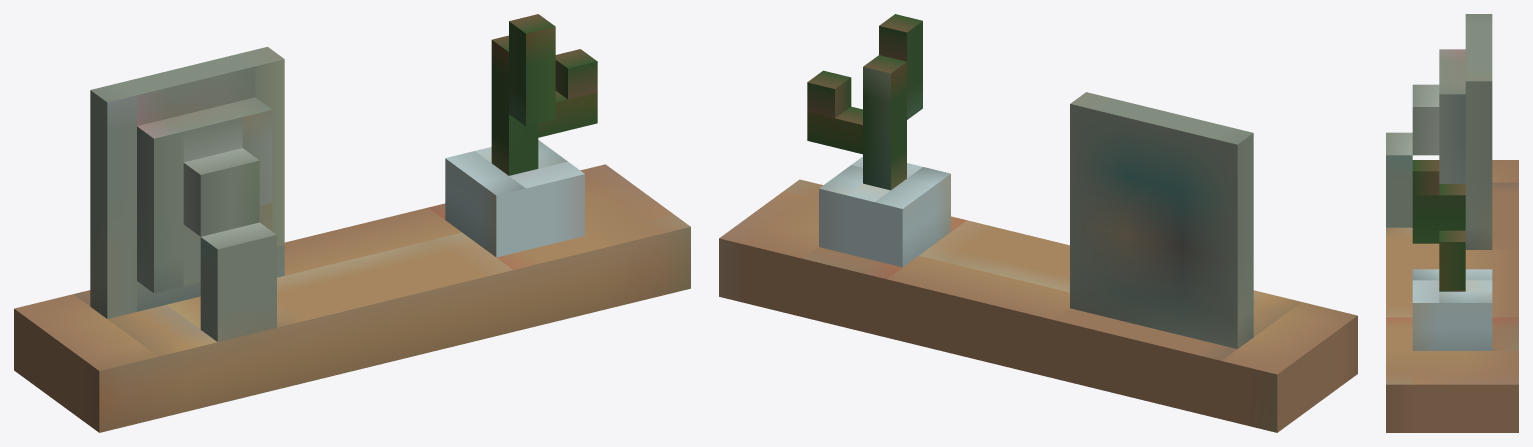
Rendered from ShelfWithItems_B_02.obj.
3 renders of one model, left to right at view 1: azimuth 30°, elevation 25°; view 2: azimuth 150°, elevation 25°; view 3: azimuth 270°, elevation 25°, orthographic. The views are drawn at different scales.
Parts seen in each view (by area): view 1: ShelfWithItems_B_02; view 2: ShelfWithItems_B_02; view 3: ShelfWithItems_B_02.
Part boxes in pixels (x1,y1,x2,y2): ShelfWithItems_B_02: (14, 14, 690, 432); ShelfWithItems_B_02: (719, 14, 1357, 432); ShelfWithItems_B_02: (1386, 14, 1518, 432).
Size of the model in its own units: 1 by 0.45 by 0.25.
